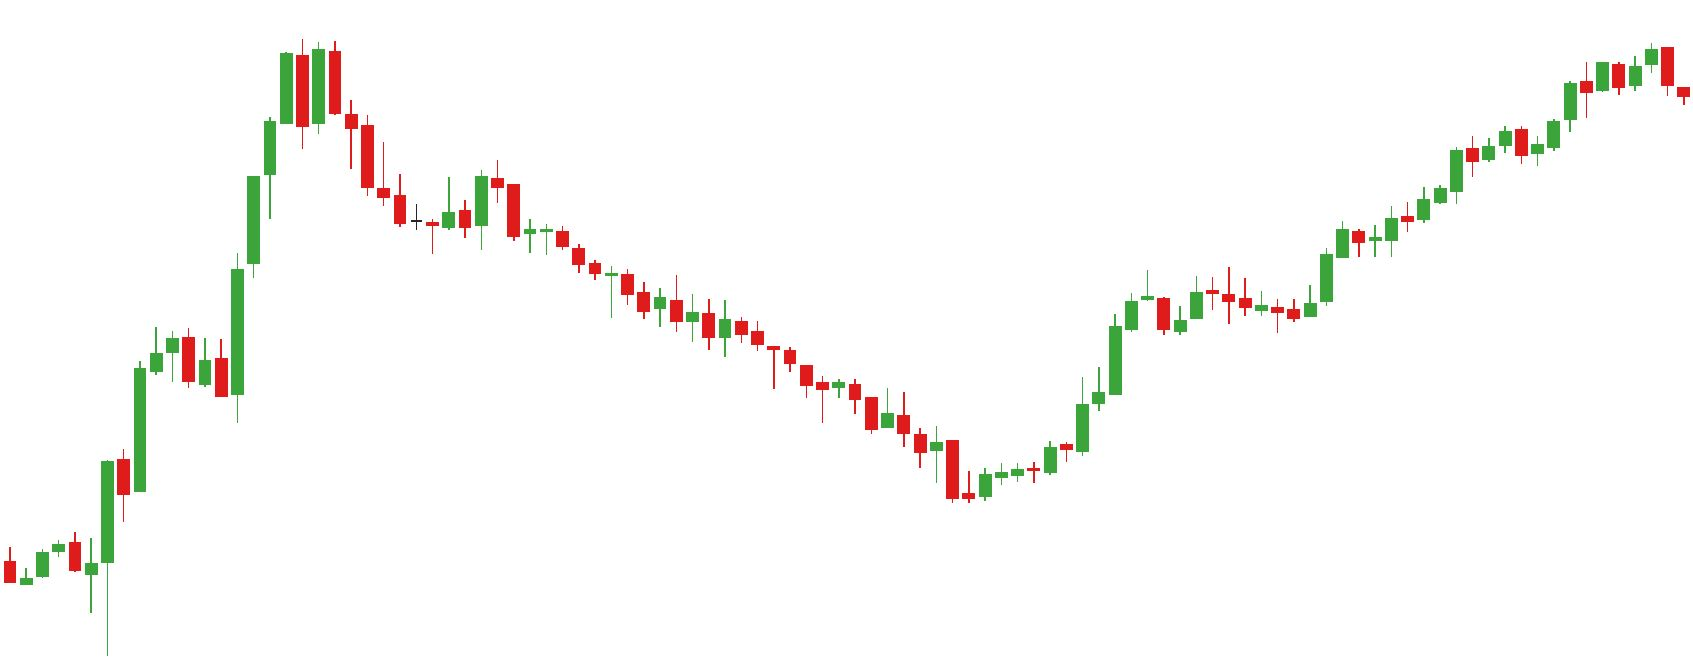buy: (4, 531, 98, 625)
